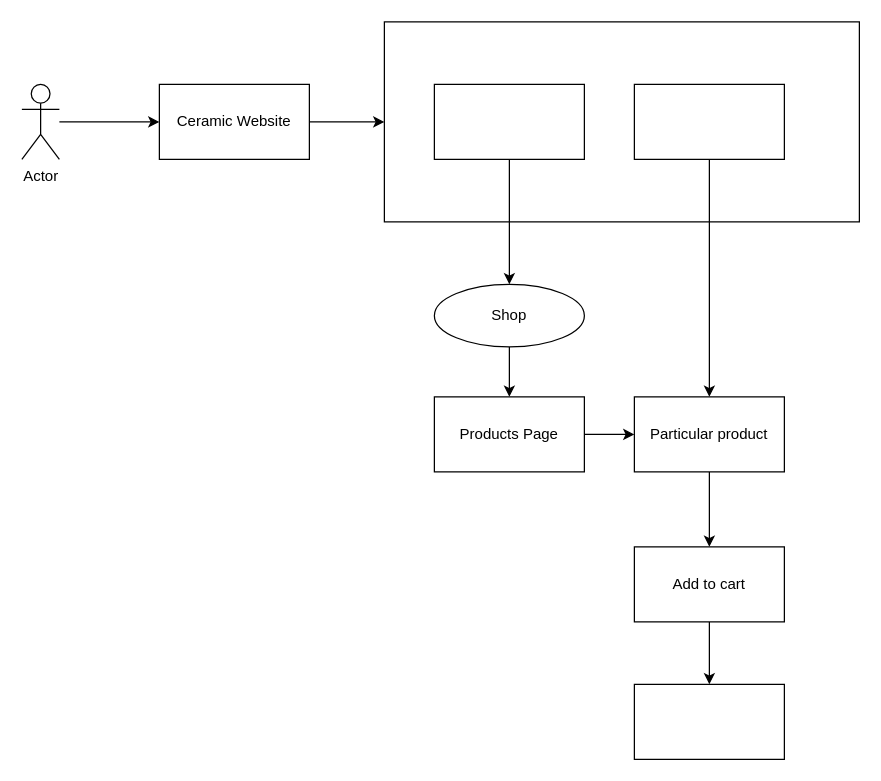
This 881x781 diagram has some shape labels left out. Here are the shapes that lost their labels. From the top down, the box of each, then its label:
(433, 83, 584, 159): Carousel
(633, 83, 784, 159): Products with particular products
(633, 683, 784, 759): Buy Now Page
